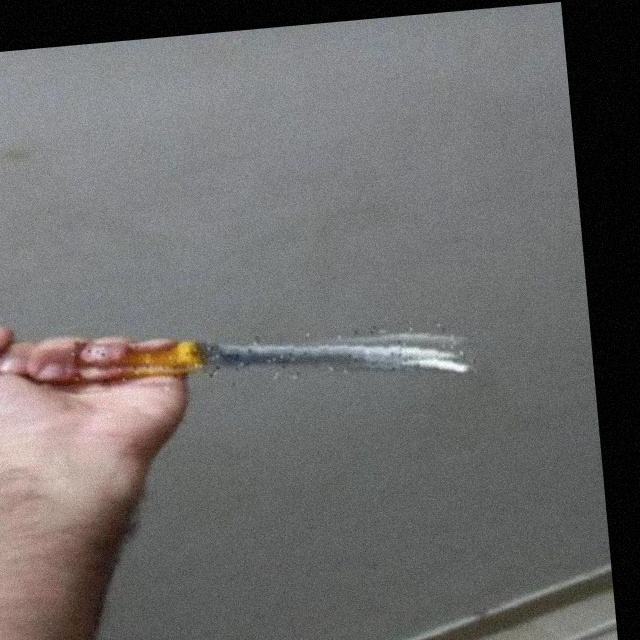Sharp-Object: (72, 316, 479, 399)
